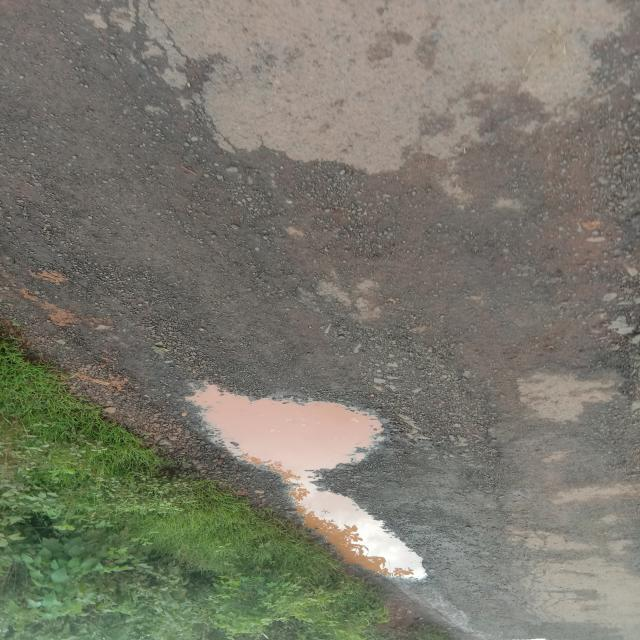potholes: (172, 375, 438, 587)
